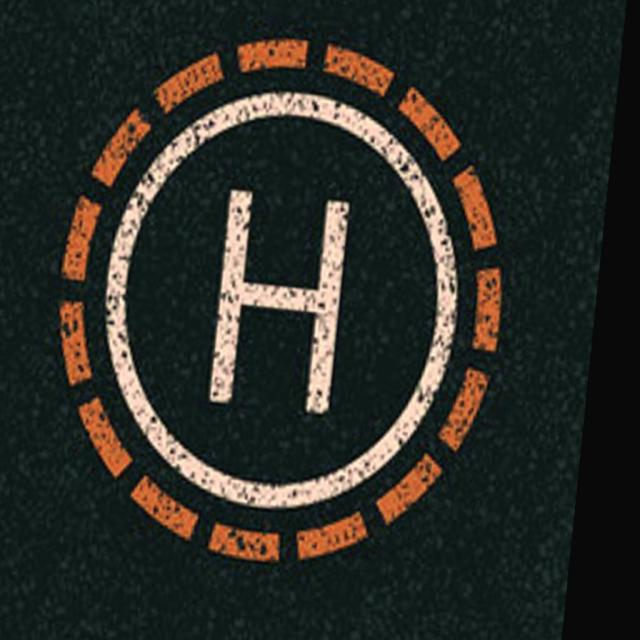helipad: (98, 82, 466, 516)
